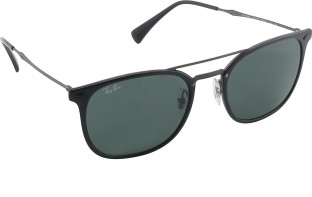sunglasses: (6, 7, 311, 167)
